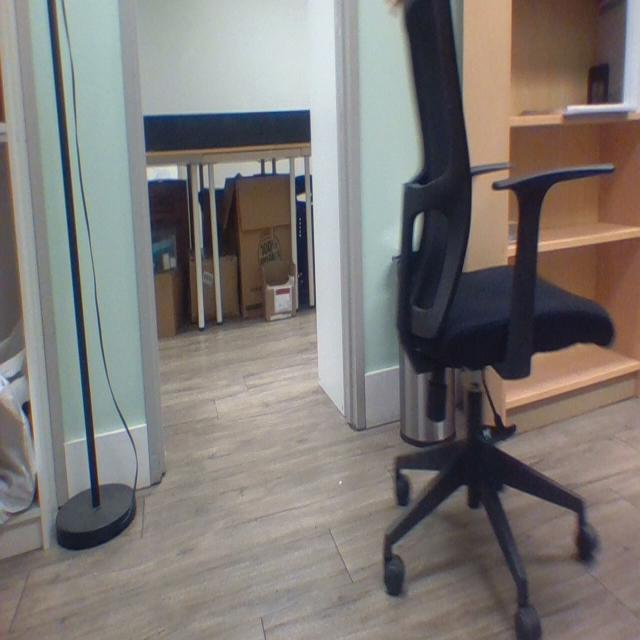chair: (382, 1, 618, 639)
